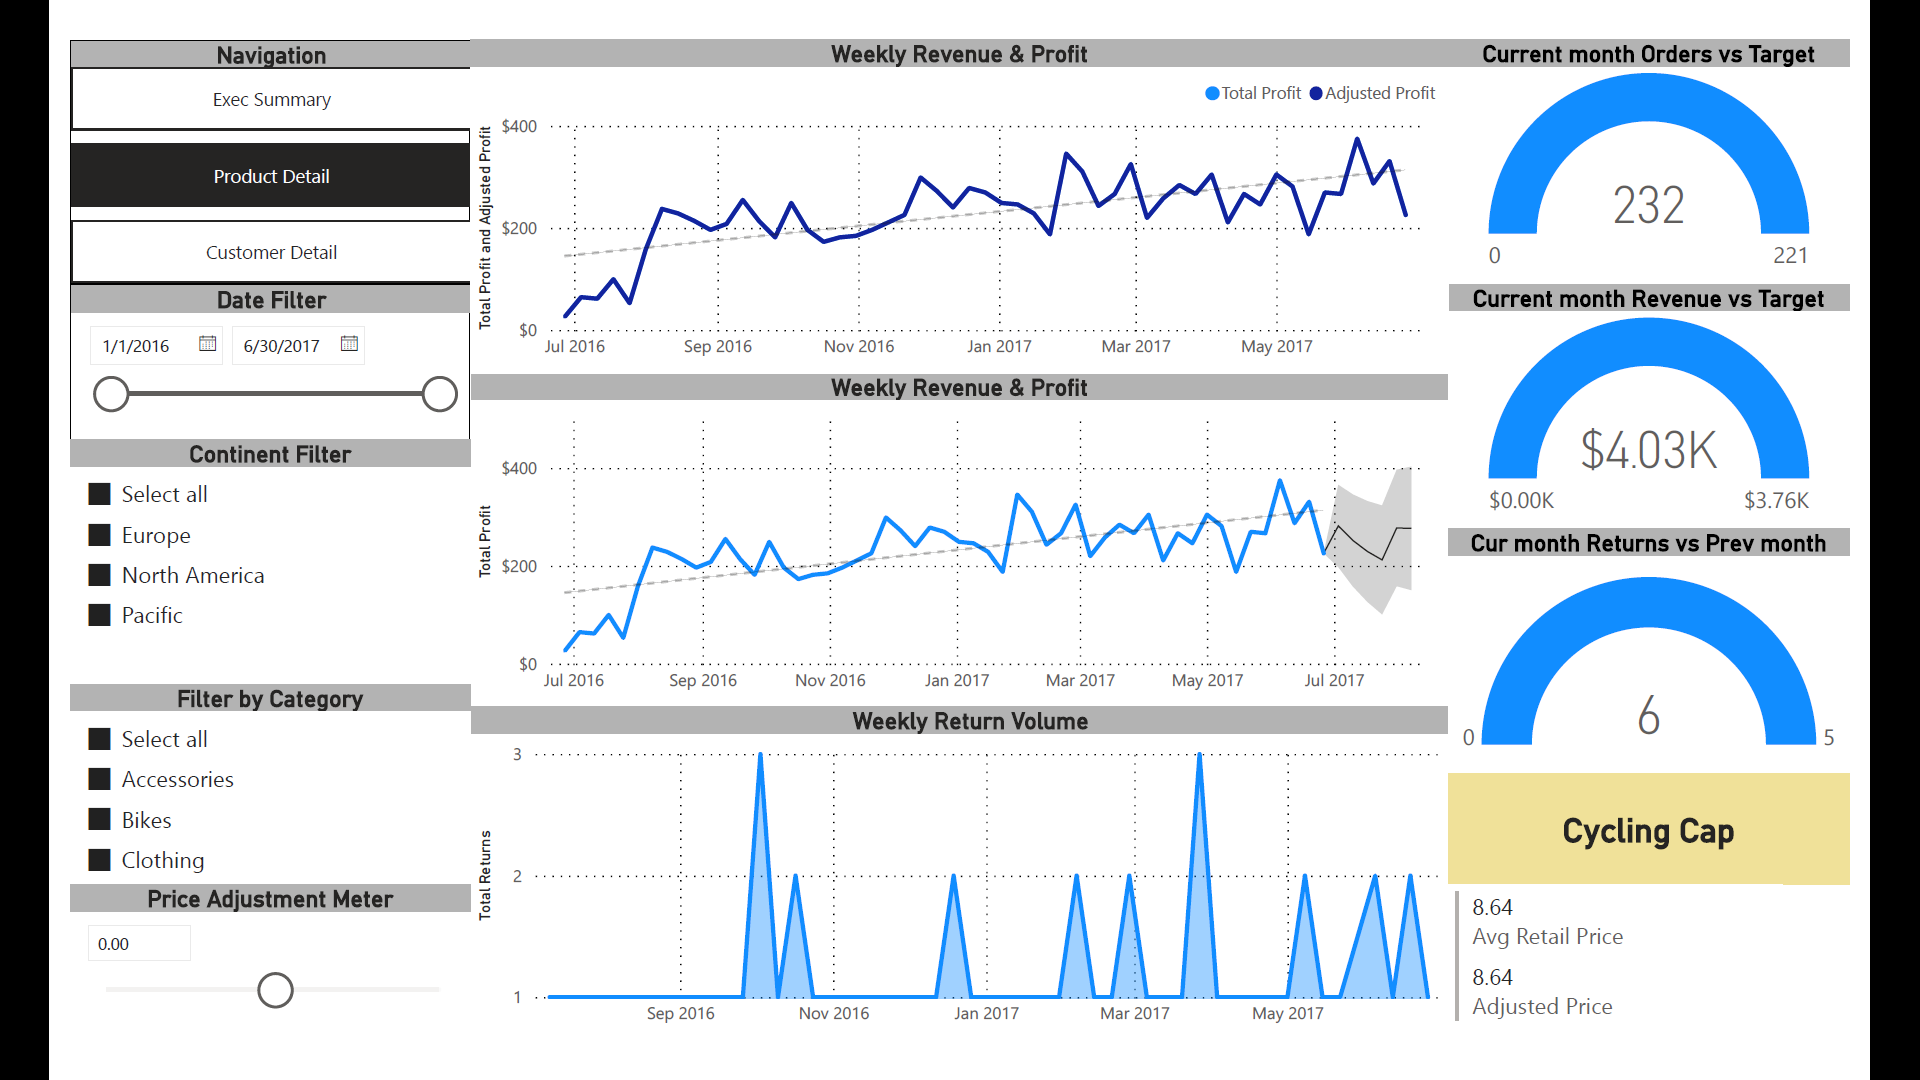

What the dashboard file says about the page in this screenshot:
{"tool":"powerbi","page":{"name":"Product Detail","canvas":[1280,720],"ordinal":1},"visuals":[{"type":"lineChart","title":"Weekly Revenue & Profit","fields":{"Category":["AW_Calendar_Lookup.Start of Week"],"Y":["AW_Sales.Total Profit"]},"box":[288,240,704,240],"z":1000},{"type":"areaChart","title":"Weekly Return Volume","fields":{"Category":["AW_Calendar_Lookup.Start of Week"],"Y":["AW_Returns.Total Returns"]},"box":[288,480,720,240],"z":2000},{"type":"gauge","title":"Current month Orders vs Target","fields":{"Y":["AW_Sales.Total Sales"],"MaxValue":["AW_Sales.Order Target"]},"box":[992,0,288,176],"z":3000},{"type":"gauge","title":"Current month Revenue vs Target","fields":{"Y":["AW_Sales.Total Revenue"],"MaxValue":["AW_Sales.Target Revenue"]},"box":[992,176,288,176],"z":4000},{"type":"gauge","title":"Cur month Returns vs Prev month","fields":{"Y":["AW_Returns.Total Returns"],"MaxValue":["AW_Returns.Prev Month Returns"]},"box":[992,352,288,176],"z":5000},{"type":"card","fields":{"Values":["Min(AW_Products_Lookup.ModelName)"]},"box":[992,528,288,80],"z":6000},{"type":"multiRowCard","fields":{"Values":["AW_Products_Lookup.Avg Retail Price","AW_Products_Lookup.Adjusted Price"]},"box":[992,608,240,112],"z":9000},{"type":"lineChart","title":"Weekly Revenue & Profit","fields":{"Category":["AW_Calendar_Lookup.Start of Week"],"Y":["AW_Sales.Total Profit","AW_Sales.Adjusted Profit"]},"box":[288,0,704,240],"z":10000},{"type":"pageNavigator","title":"Navigation","box":[0,0,288,176],"z":10001},{"type":"slicer","title":"Date Filter","fields":{"Values":["AW_Calendar_Lookup.Date"]},"box":[0,176,288,112],"z":10002},{"type":"slicer","title":"Continent Filter","fields":{"Values":["AW_Territories_Lookup.Continent"]},"box":[0,288,288,176],"z":10003},{"type":"slicer","title":"Filter by Category","fields":{"Values":["AW_Product_Categories_Lookup.CategoryName"]},"box":[0,464,288,160],"z":10004},{"type":"slicer","title":"Price Adjustment Meter","fields":{"Values":["Price Adjustment(%).Price Adjustment(%)"]},"box":[0,608,288,112],"z":10005}]}

Visuals, with their boxes in screenshot pixels (x1, y1, x2, y2), scaled from the page's 1280x720 canvas onto the 1920x1080 screenshot:
"Weekly Revenue & Profit" lineChart: x1=432 y1=360 x2=1488 y2=720
"Weekly Return Volume" areaChart: x1=432 y1=720 x2=1512 y2=1079
"Current month Orders vs Target" gauge: x1=1488 y1=0 x2=1919 y2=264
"Current month Revenue vs Target" gauge: x1=1488 y1=264 x2=1919 y2=528
"Cur month Returns vs Prev month" gauge: x1=1488 y1=528 x2=1919 y2=792
card - Min(AW_Products_Lookup.ModelName): x1=1488 y1=792 x2=1919 y2=912
multiRowCard - AW_Products_Lookup.Avg Retail Price x AW_Products_Lookup.Adjusted Price: x1=1488 y1=912 x2=1848 y2=1079
"Weekly Revenue & Profit" lineChart: x1=432 y1=0 x2=1488 y2=360
"Navigation" pageNavigator: x1=0 y1=0 x2=432 y2=264
"Date Filter" slicer: x1=0 y1=264 x2=432 y2=432
"Continent Filter" slicer: x1=0 y1=432 x2=432 y2=696
"Filter by Category" slicer: x1=0 y1=696 x2=432 y2=936
"Price Adjustment Meter" slicer: x1=0 y1=912 x2=432 y2=1079
